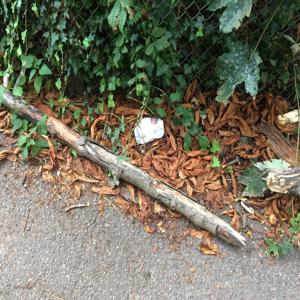plastic: (132, 114, 172, 146)
